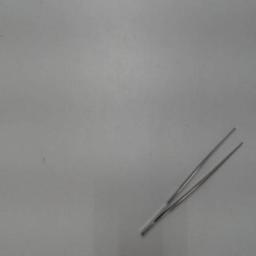Gillies Toothed Dissector: (136, 119, 248, 245)
